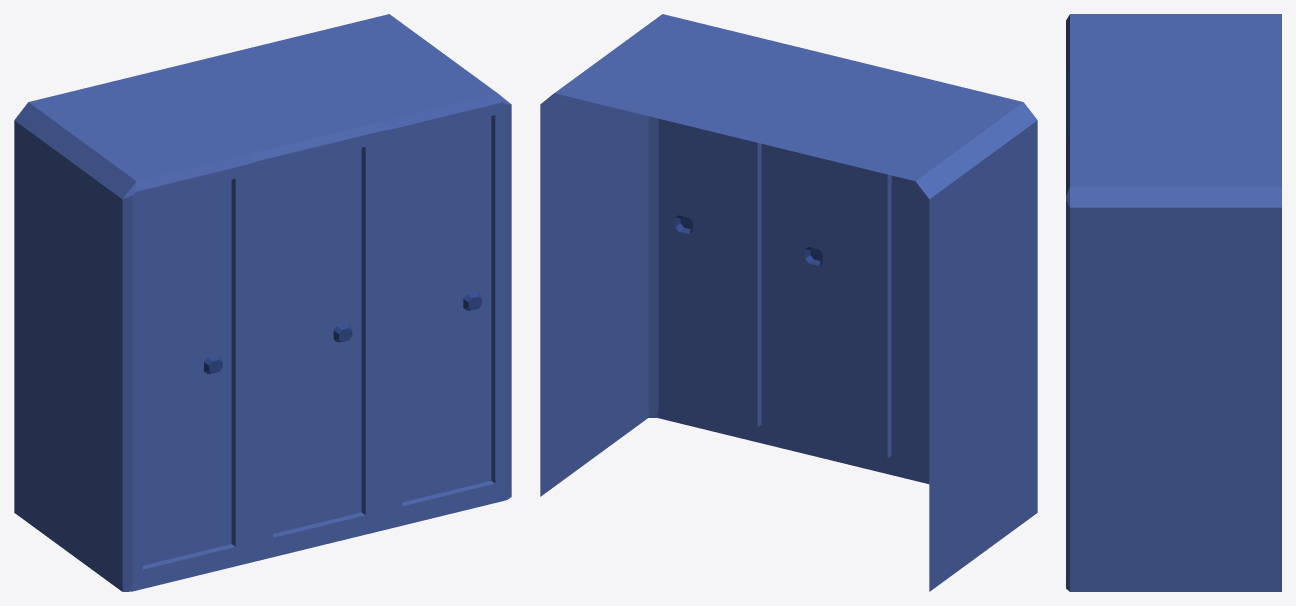
File: Lockers.fbx
3 views of the same model, side by side, from view 1: azimuth 30°, elevation 25°; view 2: azimuth 150°, elevation 25°; view 3: azimuth 270°, elevation 25° (orthographic). The views are drawn at different scales.
Visible parts, largest first — view 1: New Locker; view 2: New Locker; view 3: New Locker.
Part boxes in pixels (box(x1,y1,x2,y2)): New Locker: box(14, 14, 511, 591); New Locker: box(540, 14, 1037, 591); New Locker: box(1066, 14, 1281, 591).
Bounding box in the file's own units: 200 × 200 × 98.16.
